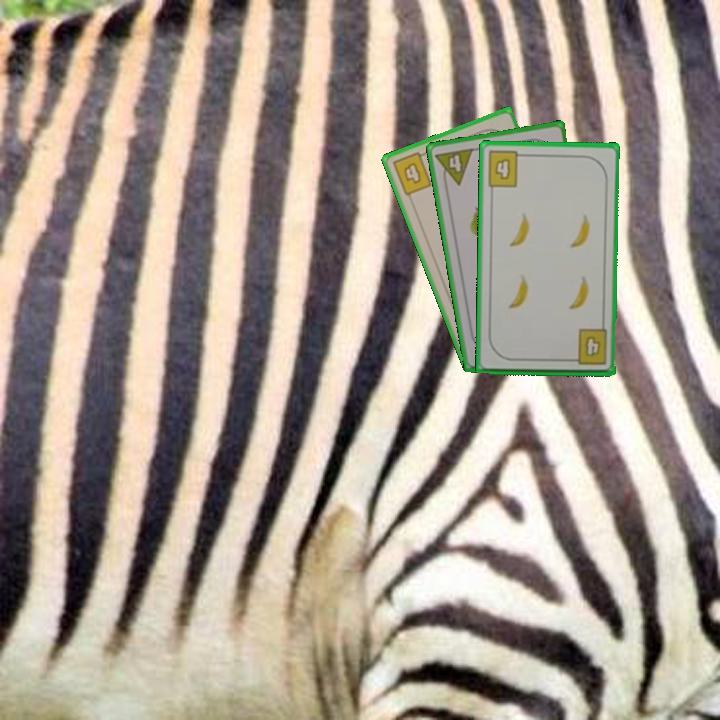4b: (388, 148, 435, 198), (484, 148, 528, 190), (566, 326, 610, 368)
4p: (432, 145, 476, 190)
